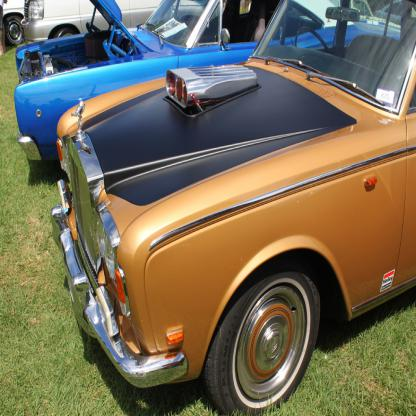Car: (2, 0, 416, 416)
